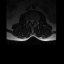CCS_normal: (31, 18, 33, 25)
LFS_stenosis: (34, 18, 35, 22)
LLS_normal: (33, 18, 34, 23)
RFS_stenosis: (28, 18, 30, 22)
RLS_normal: (30, 18, 31, 23)
